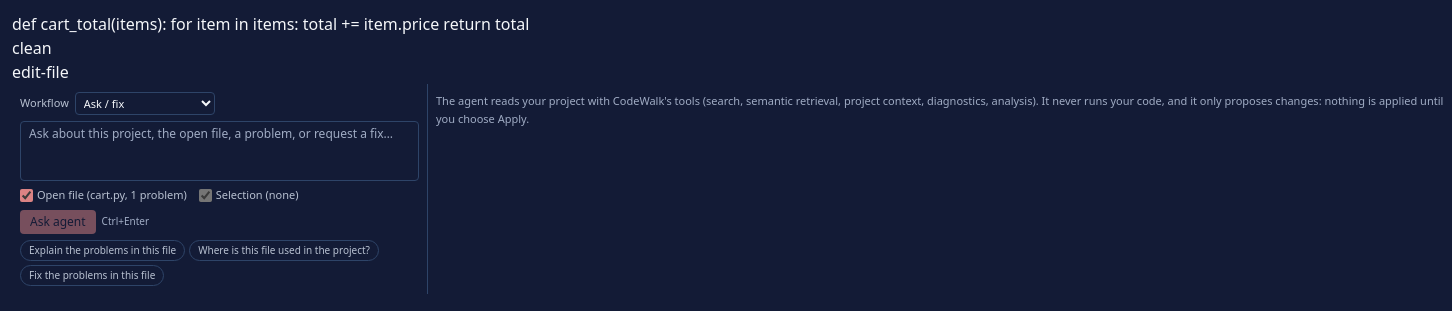
Scenario: Agent panel › shows rate limit states
In the text box named "Ask about your project": (220, 151) [20, 121, 419, 181], type "Why?"
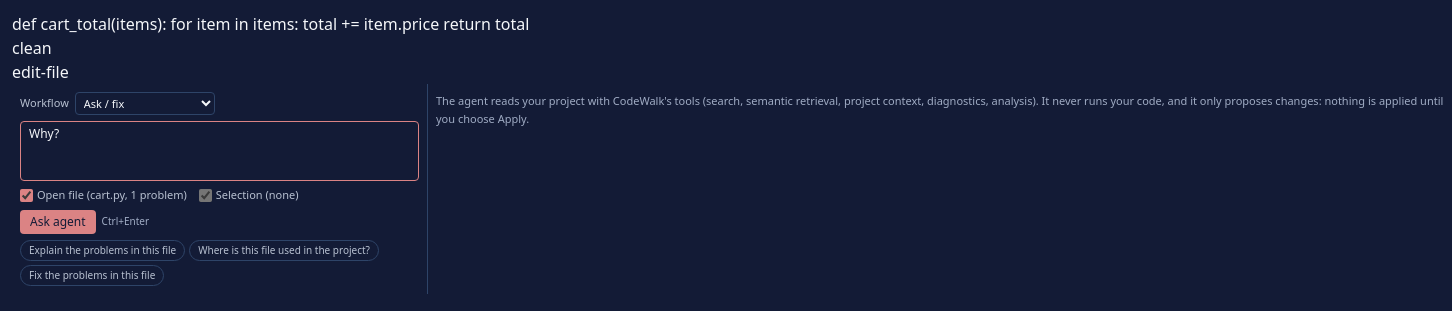
Click the button "Ask agent": (58, 222) [20, 210, 96, 234]
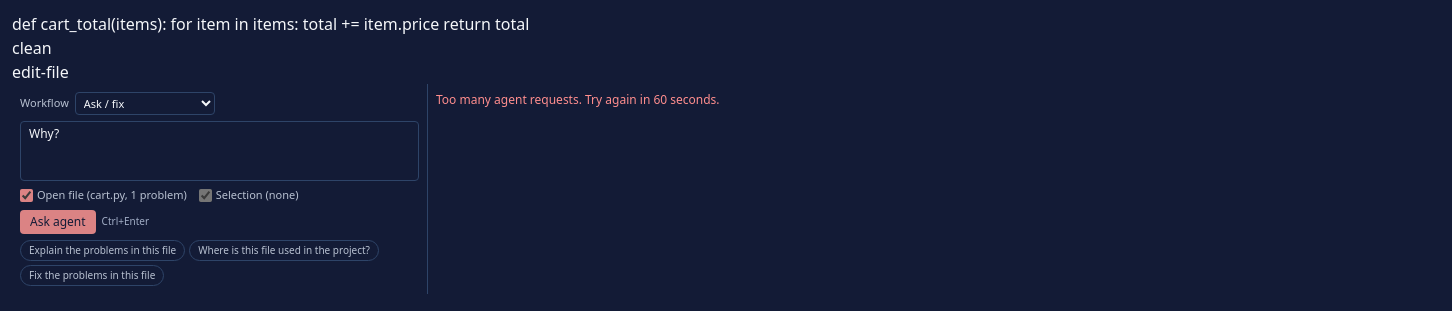
Now the button "Ask agent" is enabled, box [20, 210, 96, 234]
Now the message shows "Too many agent requests", box [436, 91, 720, 108]
